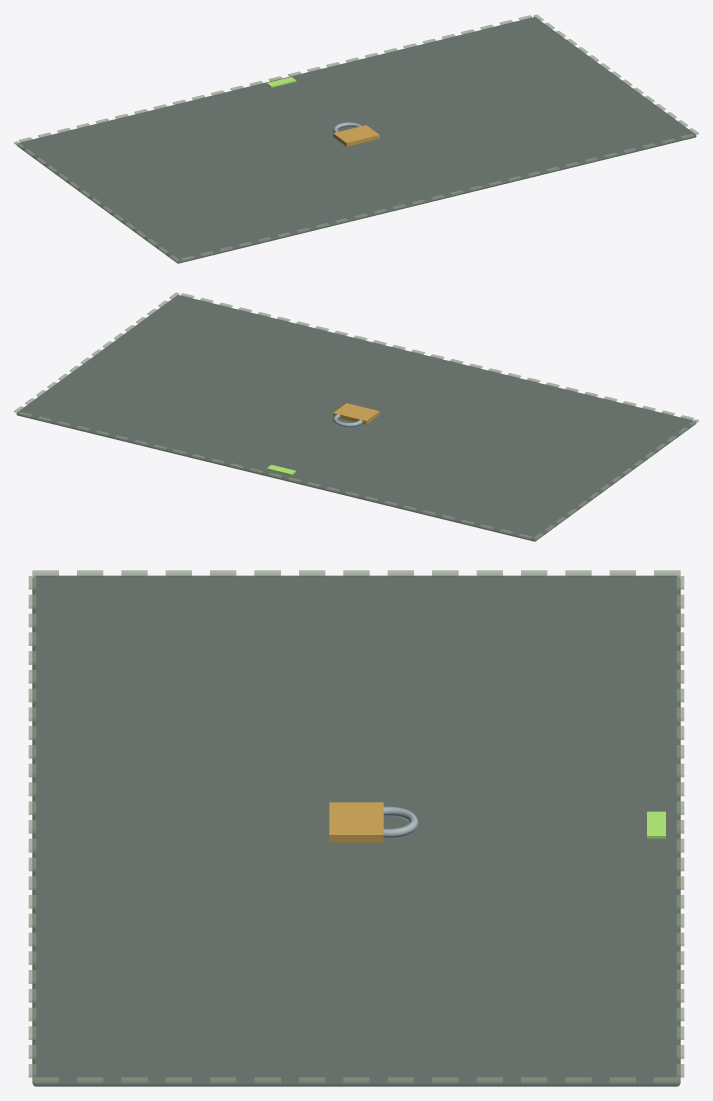
File: rig-slot.glb
The picture shows the model from 3 angles, top to bottom: view 1: azimuth 30°, elevation 25°; view 2: azimuth 150°, elevation 25°; view 3: azimuth 270°, elevation 25°; orthographic projection. The views are drawn at different scales.
Parts seen in each view (by area): view 1: slot-platform, slot-outline, slot-lock; view 2: slot-platform, slot-outline, slot-lock; view 3: slot-platform, slot-outline, slot-lock.
Boxes of the visible parts, x1,y1,x2,y2 form: slot-platform: (17, 17, 696, 263); slot-outline: (14, 14, 698, 261); slot-lock: (333, 122, 379, 146); slot-platform: (16, 295, 695, 541); slot-outline: (14, 292, 698, 539); slot-lock: (333, 403, 379, 427); slot-platform: (32, 575, 680, 1086); slot-outline: (28, 570, 684, 1083); slot-lock: (329, 802, 418, 842).
Size of the model in its own units: 10.06 by 0.145 by 5.47.
